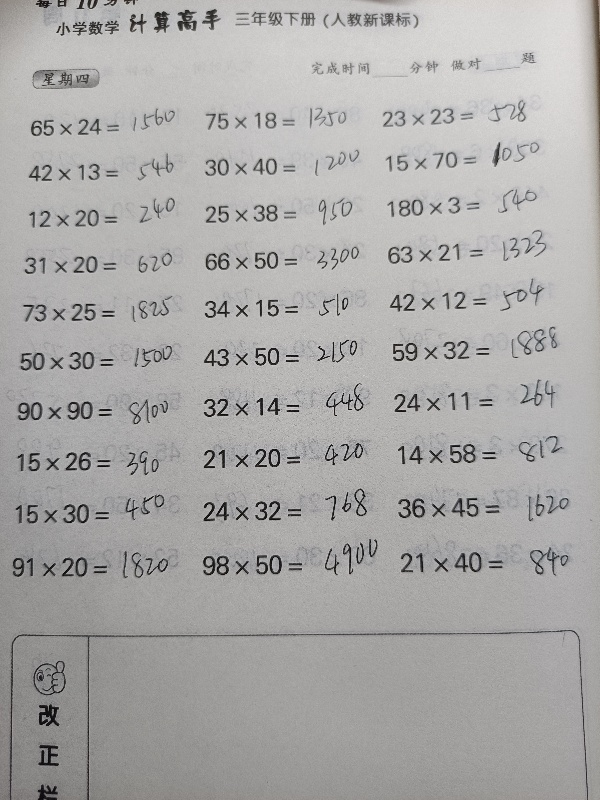equation: (4, 549, 184, 585), (392, 544, 572, 580), (390, 490, 570, 526), (193, 547, 373, 582), (6, 496, 186, 531), (194, 493, 374, 528), (9, 444, 189, 479), (389, 436, 569, 471), (194, 441, 374, 475), (9, 394, 189, 428), (195, 390, 375, 424), (385, 385, 565, 419), (11, 344, 191, 378), (195, 340, 375, 374), (383, 333, 563, 367), (380, 284, 560, 318), (196, 243, 376, 277), (196, 149, 376, 183), (14, 296, 194, 329), (195, 292, 375, 325), (15, 248, 195, 281), (378, 237, 558, 270), (21, 202, 201, 235), (196, 197, 376, 230), (379, 190, 559, 223), (21, 156, 201, 189), (21, 110, 201, 143), (374, 100, 554, 133), (378, 145, 558, 177), (197, 105, 377, 137)
